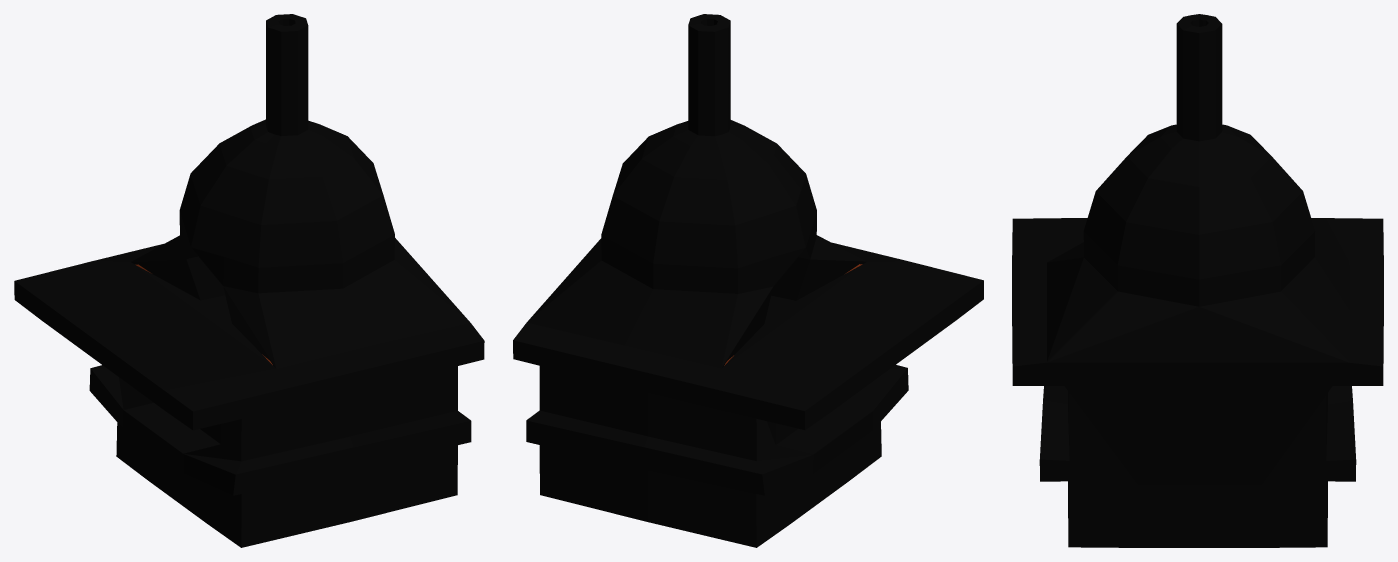
The model's file is FornodePizza.fbx.
The picture shows the model from 3 angles, left to right: view 1: azimuth 30°, elevation 25°; view 2: azimuth 150°, elevation 25°; view 3: azimuth 270°, elevation 25°; orthographic projection. The views are drawn at different scales.
Parts seen in each view (by area): view 1: backfaceforno; view 2: backfaceforno; view 3: backfaceforno.
Part boxes in pixels (bbox=[...]): backfaceforno: bbox=[14, 14, 484, 547]; backfaceforno: bbox=[513, 14, 983, 547]; backfaceforno: bbox=[1012, 14, 1383, 547].
Bounding box in the file's own units: 1.39 × 1.46 × 2.04.
2 materials, 1 textured.
